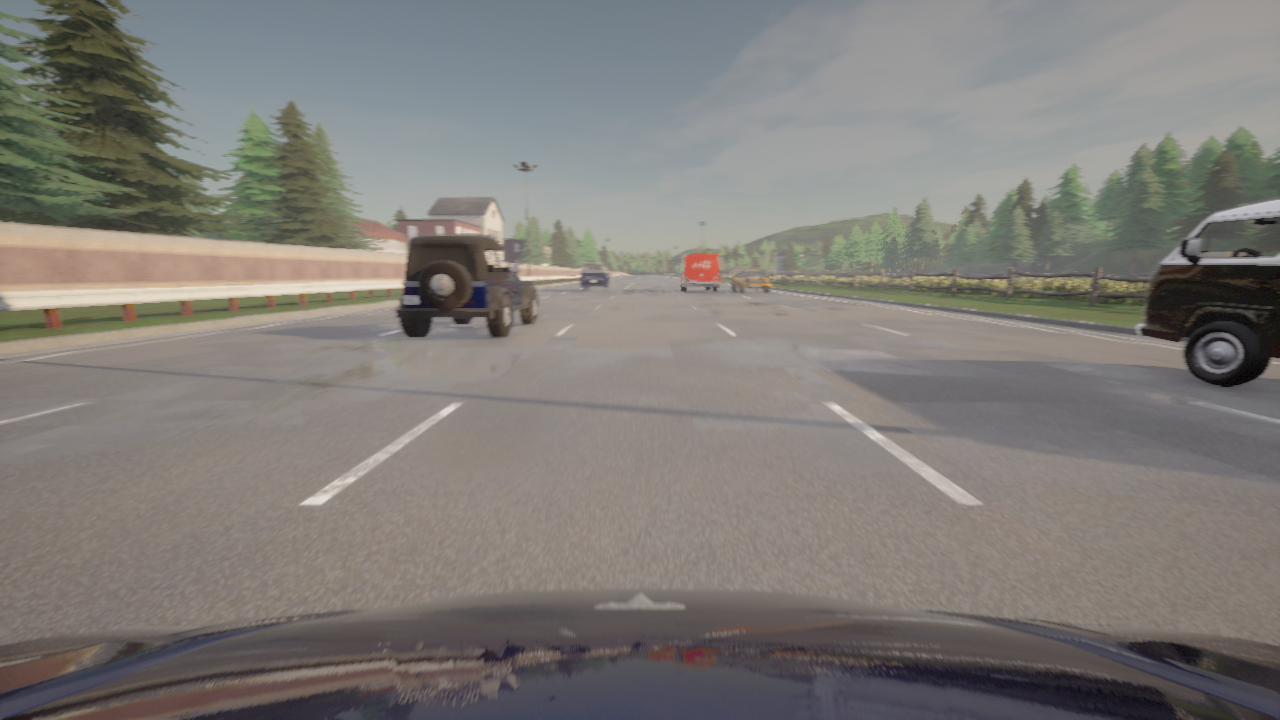cyclist: (0, 588, 1279, 719), (1136, 199, 1279, 386), (395, 235, 538, 338), (677, 254, 720, 291), (732, 268, 771, 292), (581, 262, 611, 291), (672, 273, 675, 275), (770, 272, 772, 274)
